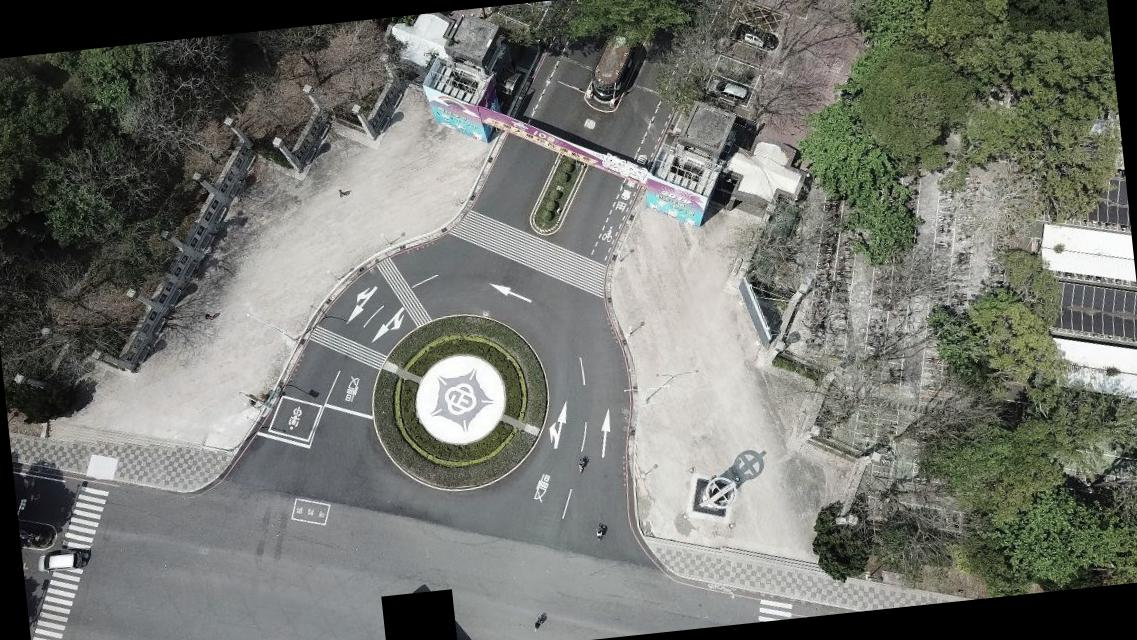vehicle: (733, 21, 777, 52), (706, 74, 750, 104), (36, 548, 82, 574)
